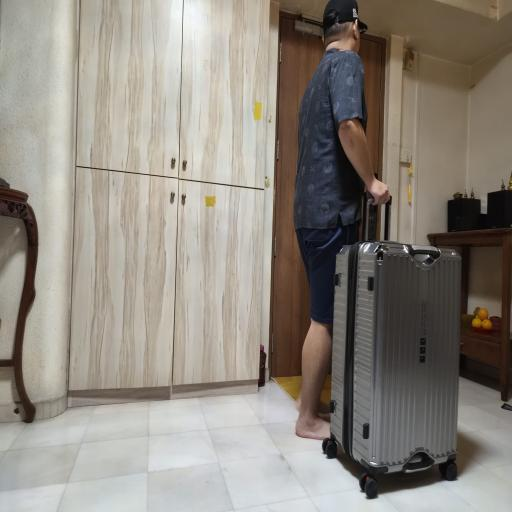person_right: (273, 5, 471, 495)
